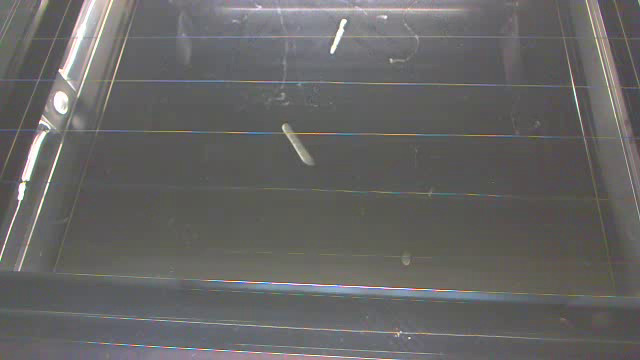Alfa: (274, 116, 318, 173), (327, 15, 351, 59)
